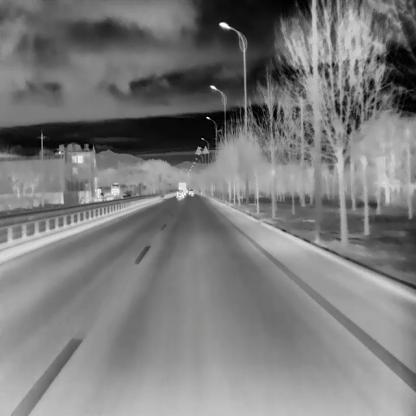car: (118, 189, 131, 199), (178, 181, 186, 196), (175, 188, 184, 198), (188, 188, 194, 195)
